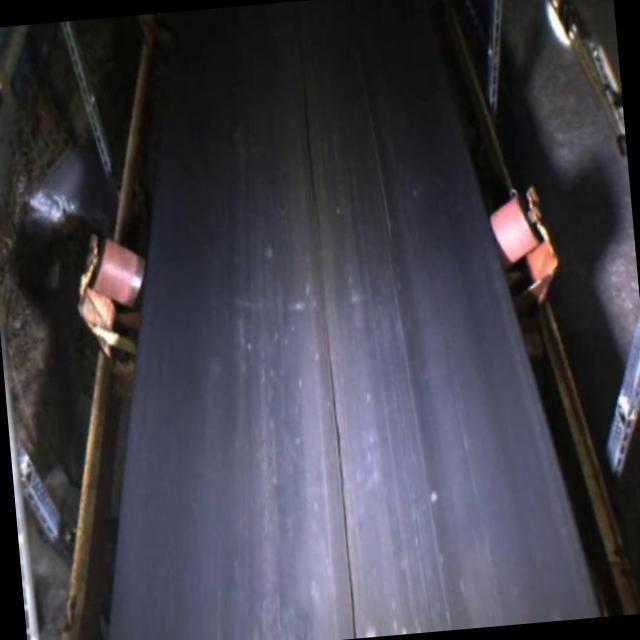Tear: (285, 51, 371, 640)
